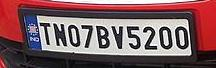0: (156, 26, 173, 50), (173, 25, 189, 49), (65, 23, 81, 46)
2: (141, 25, 158, 49)
5: (124, 24, 141, 48)
7: (79, 23, 94, 48)
B: (94, 24, 110, 47)
N: (50, 22, 67, 46)
T: (37, 21, 52, 45)
V: (109, 24, 124, 48)
